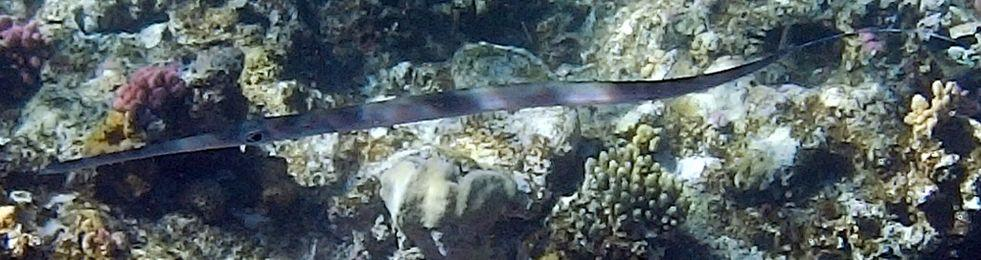Fistularia commersonii: (0, 39, 935, 164)
